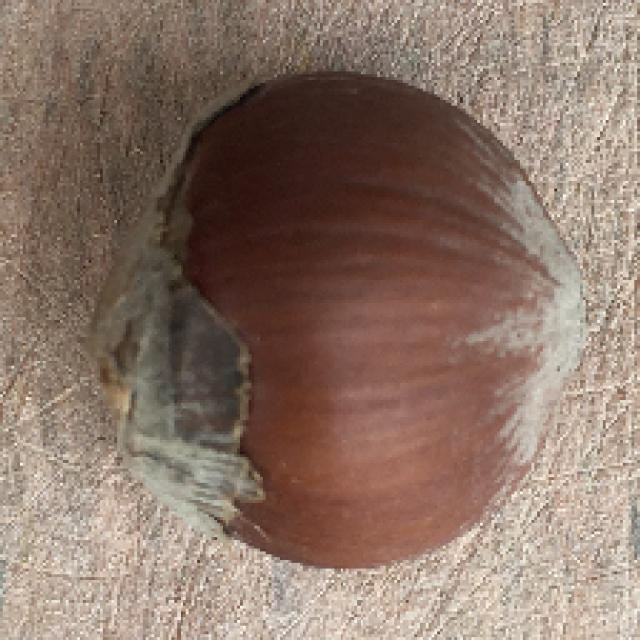DamagedHazelnut: (86, 71, 591, 565)
